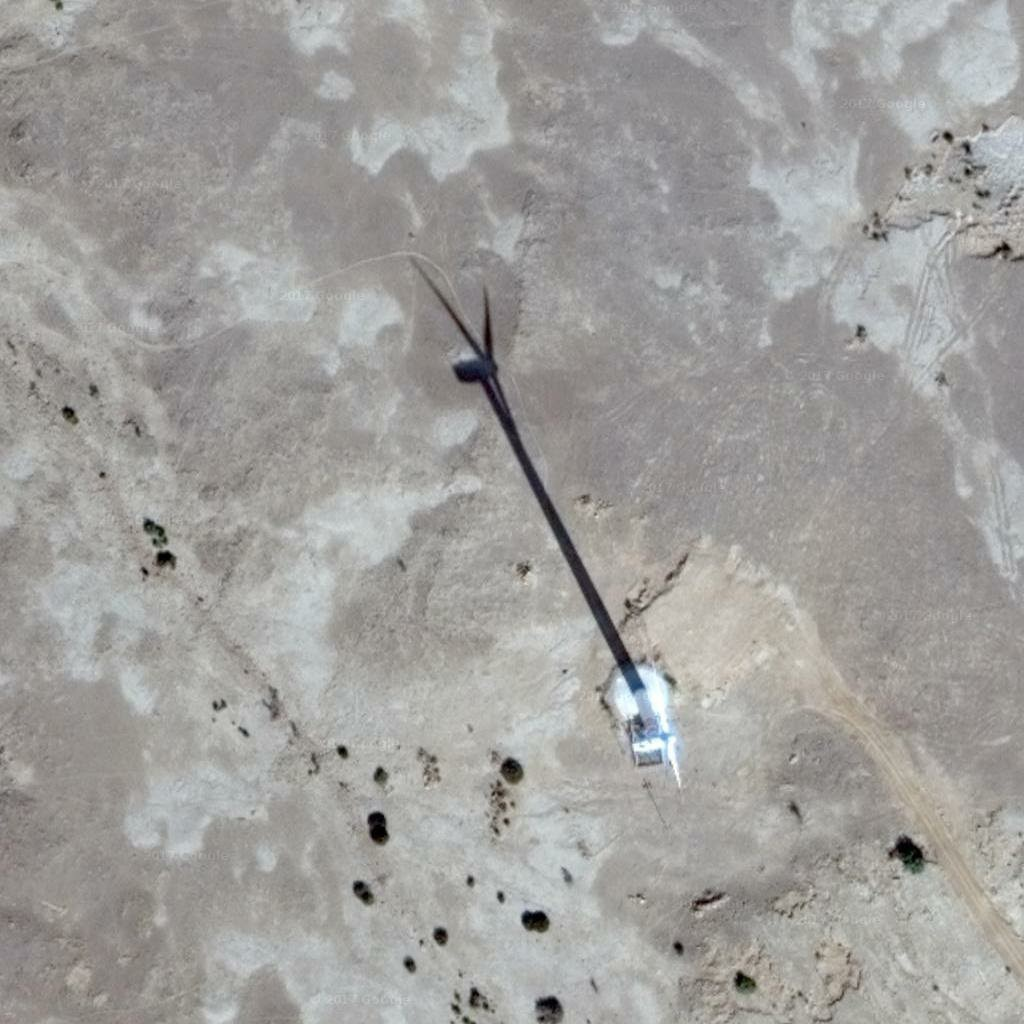Windmill: (404, 257, 654, 692)
